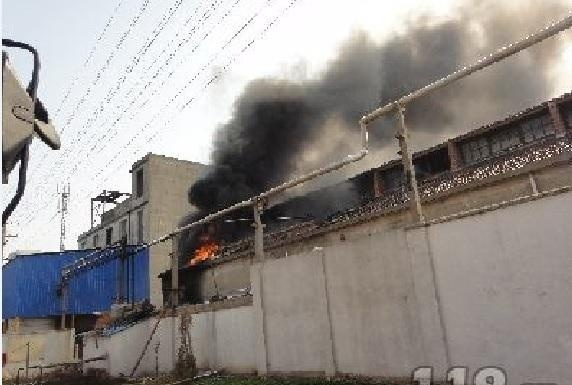fire: (186, 238, 220, 265)
